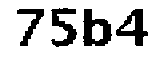4: (113, 5, 150, 51)
5: (47, 6, 79, 52)
7: (8, 3, 45, 51)
b: (82, 8, 113, 51)
